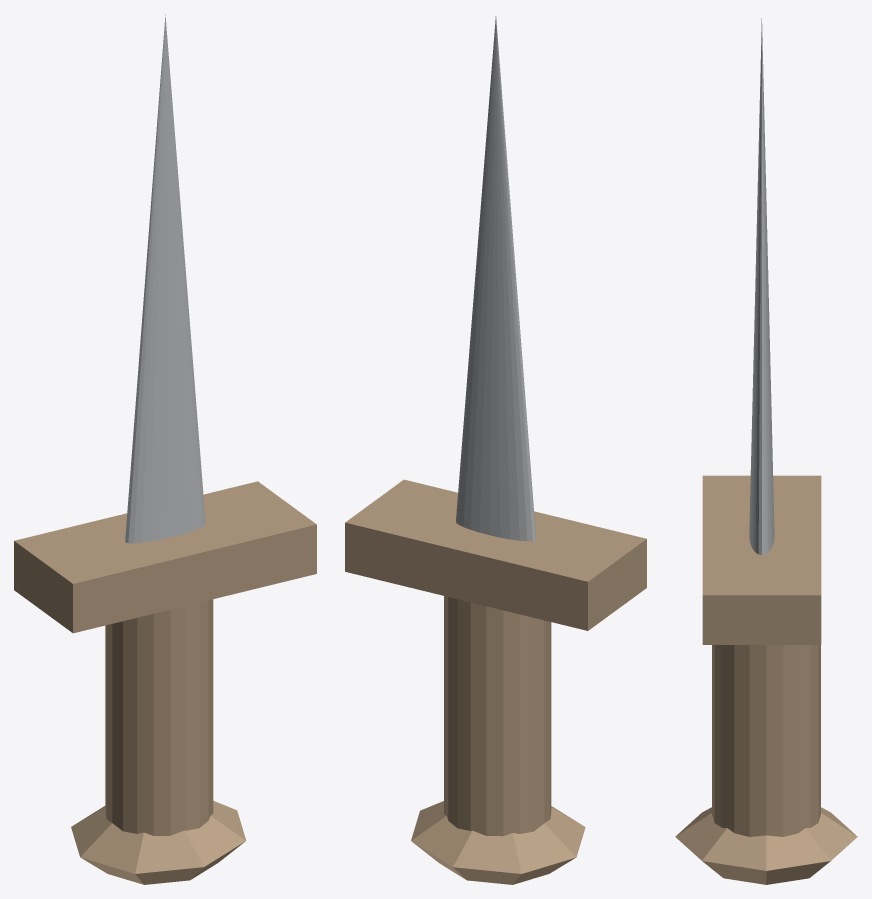
Rendered from Sword.glb.
3 renders of one model, left to right at view 1: azimuth 30°, elevation 25°; view 2: azimuth 150°, elevation 25°; view 3: azimuth 270°, elevation 25°, orthographic.
Visible parts, largest first — view 1: Mesh_Mesh_head_geo.001_lambert2SG.001; view 2: Mesh_Mesh_head_geo.001_lambert2SG.001; view 3: Mesh_Mesh_head_geo.001_lambert2SG.001.
Boxes of the visible parts, bbox=[...] form: Mesh_Mesh_head_geo.001_lambert2SG.001: bbox=[14, 14, 316, 884]; Mesh_Mesh_head_geo.001_lambert2SG.001: bbox=[345, 16, 646, 884]; Mesh_Mesh_head_geo.001_lambert2SG.001: bbox=[675, 18, 857, 884].
Size of the model in its own units: 31 by 103 by 20.
